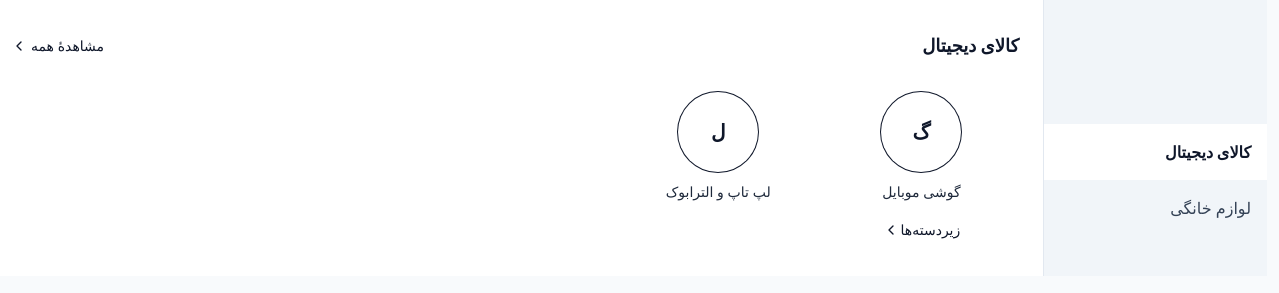
CategoriesBrowser › opens deeper levels inside the page and goes back
This screenshot has width=1279, height=293.
What coordinates should you click on to do the following:
click the button "زیردسته‌ها"
I would click on:
 (921, 230)
Its box is [874,208,968,252].
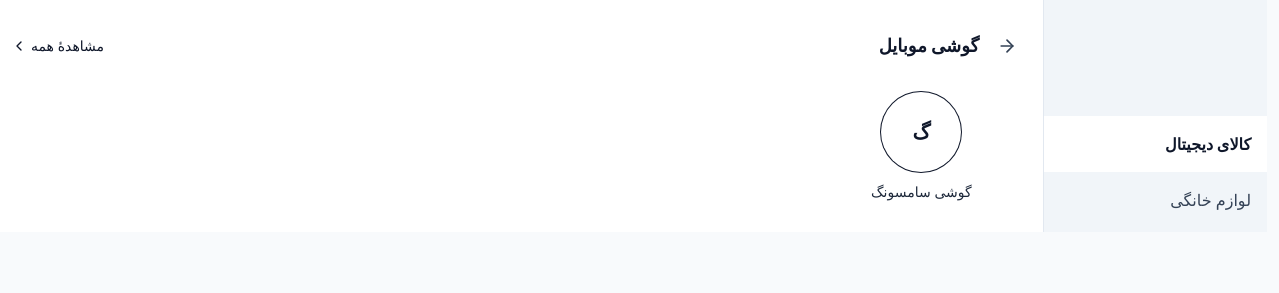
Expected: the heading "گوشی موبایل" is shown, [879,35,979,56]
Expected: the link "گ گوشی سامسونگ" is shown, [871,92,972,200]
What coordinates should you click on to do the following:
click the button named "بازگشت"
I would click on:
 (1007, 46)
Its box is [987,26,1027,66].
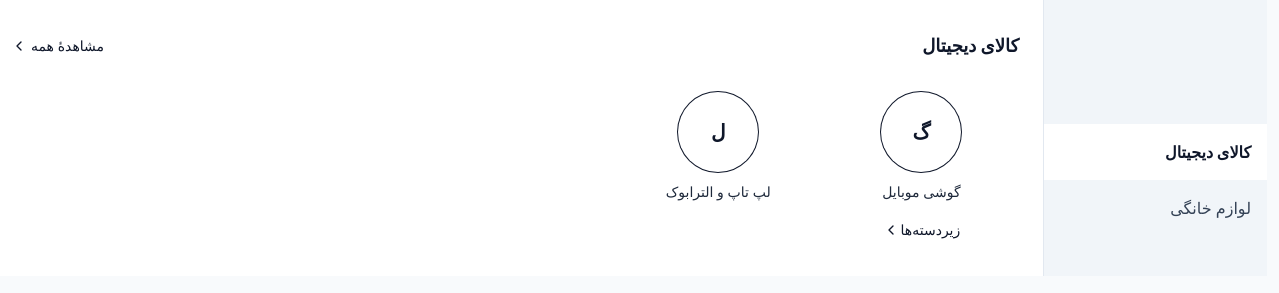
Expected: the heading "کالای دیجیتال" is shown, [922,35,1019,56]
Expected: the link "گ گوشی موبایل" is shown, [881,92,961,200]
Expected: the link "گوشی سامسونگ" is gone
